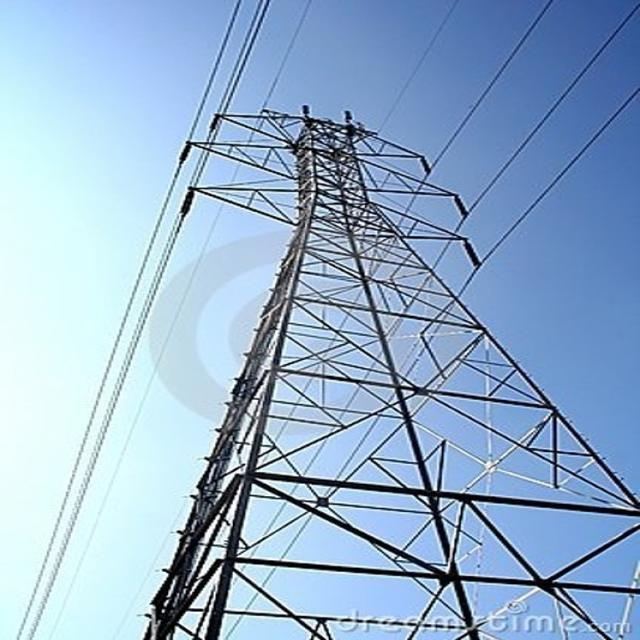non-critical vegetation: (167, 95, 636, 588)
